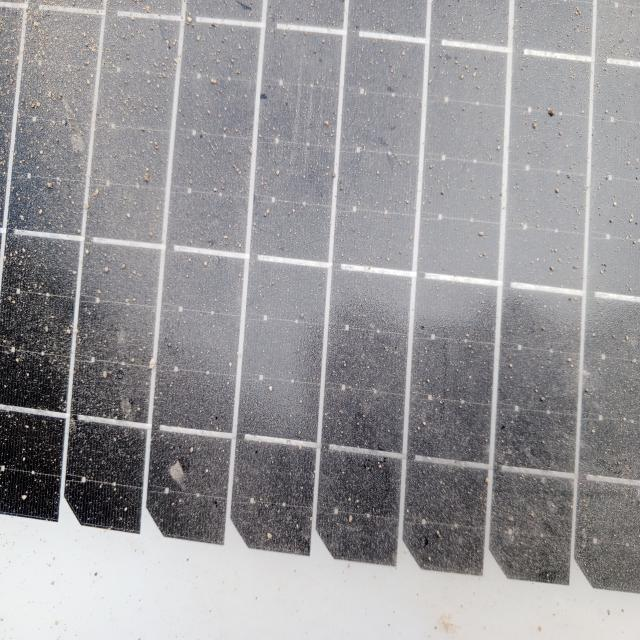Surface Contaminant: (3, 14, 639, 601)
